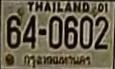0: (48, 15, 62, 48), (79, 15, 92, 48)
2: (94, 16, 108, 48)
4: (22, 14, 36, 48)
6: (6, 15, 20, 47), (64, 15, 77, 48)
BKK: (21, 53, 92, 68)
